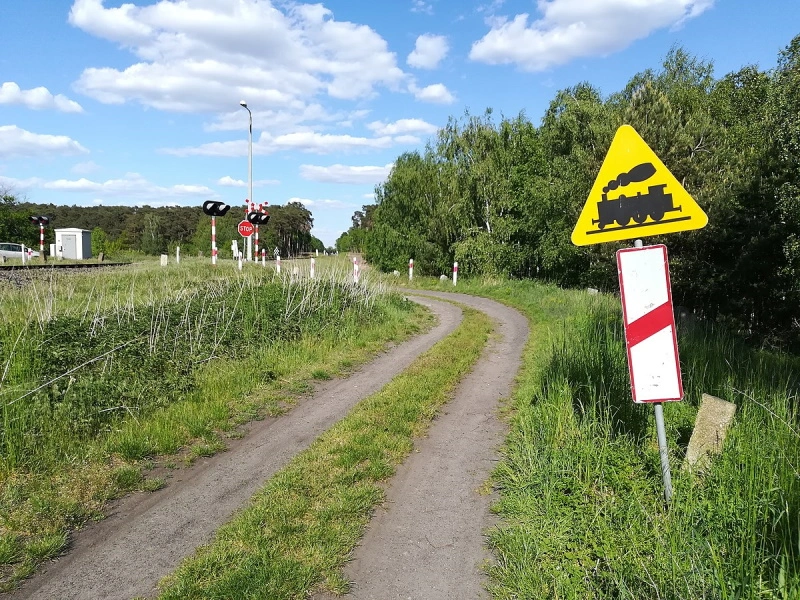a10: (580, 160, 697, 238)
